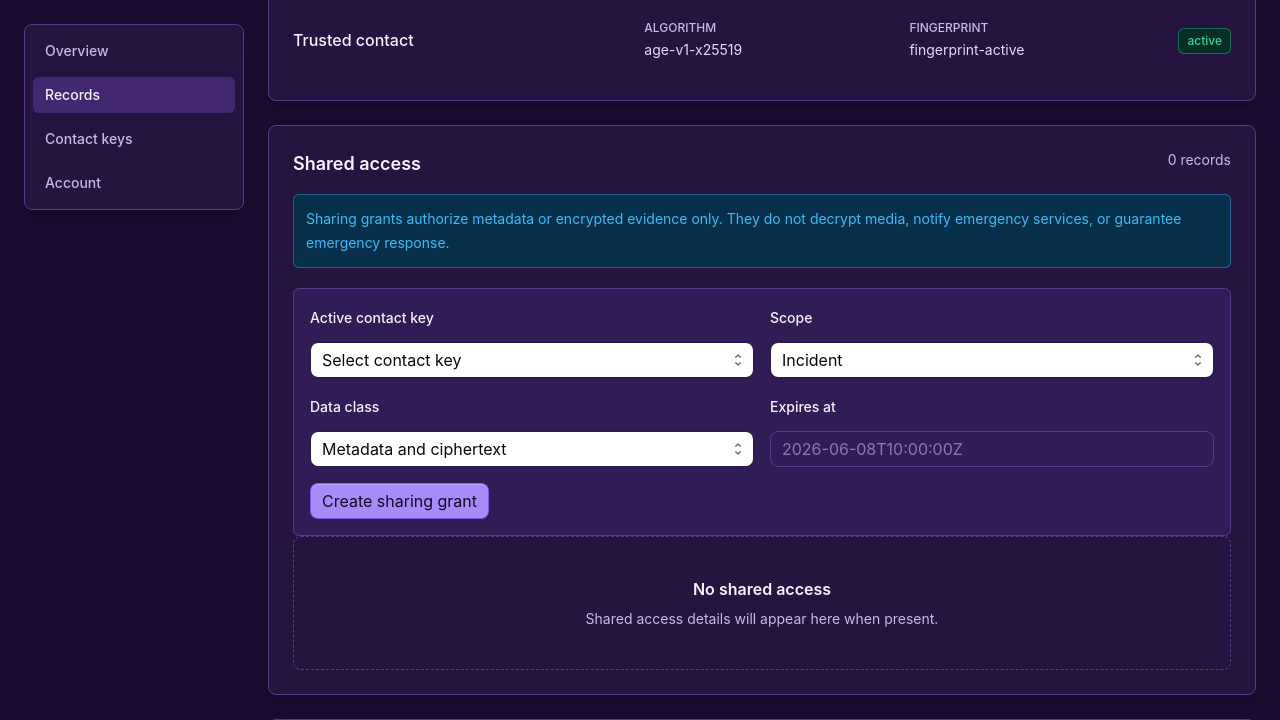
Test case: validates sharing-grant expiry before submission
(page scrolled)
Select "Trusted contact (fingerprint-active)" in the dropdown labelled "Active contact key" at (532, 360), box [310,342,754,378]
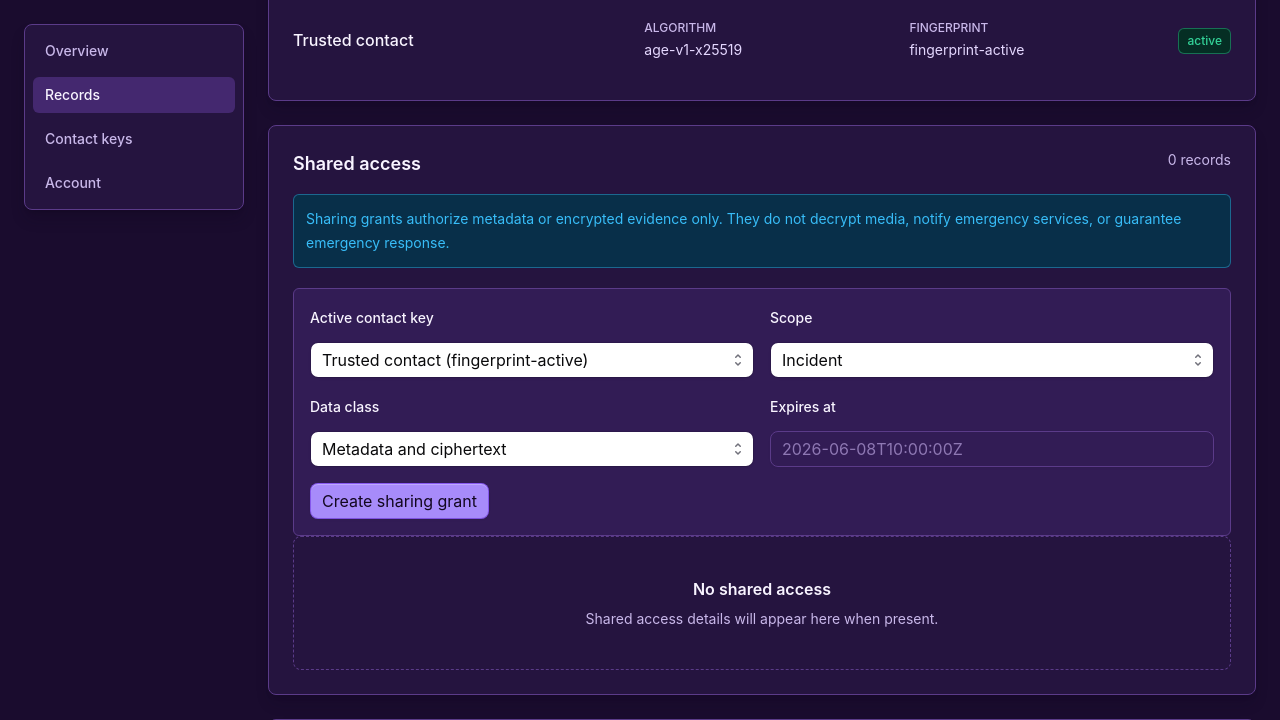
Type "2020-01-01T00:00:00Z" into the field labelled "Expires at" at (992, 449), box [770,431,1214,467]
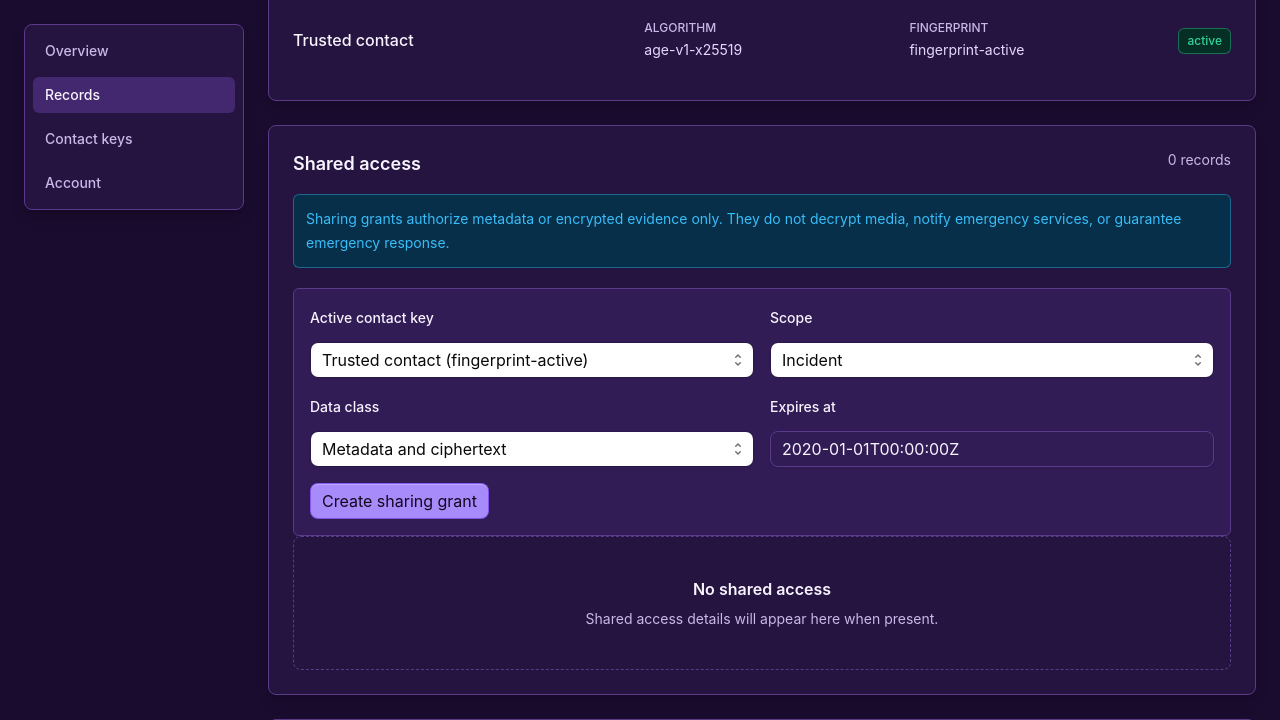
Click the button "Create sharing grant" at (400, 501), box [310,483,489,519]
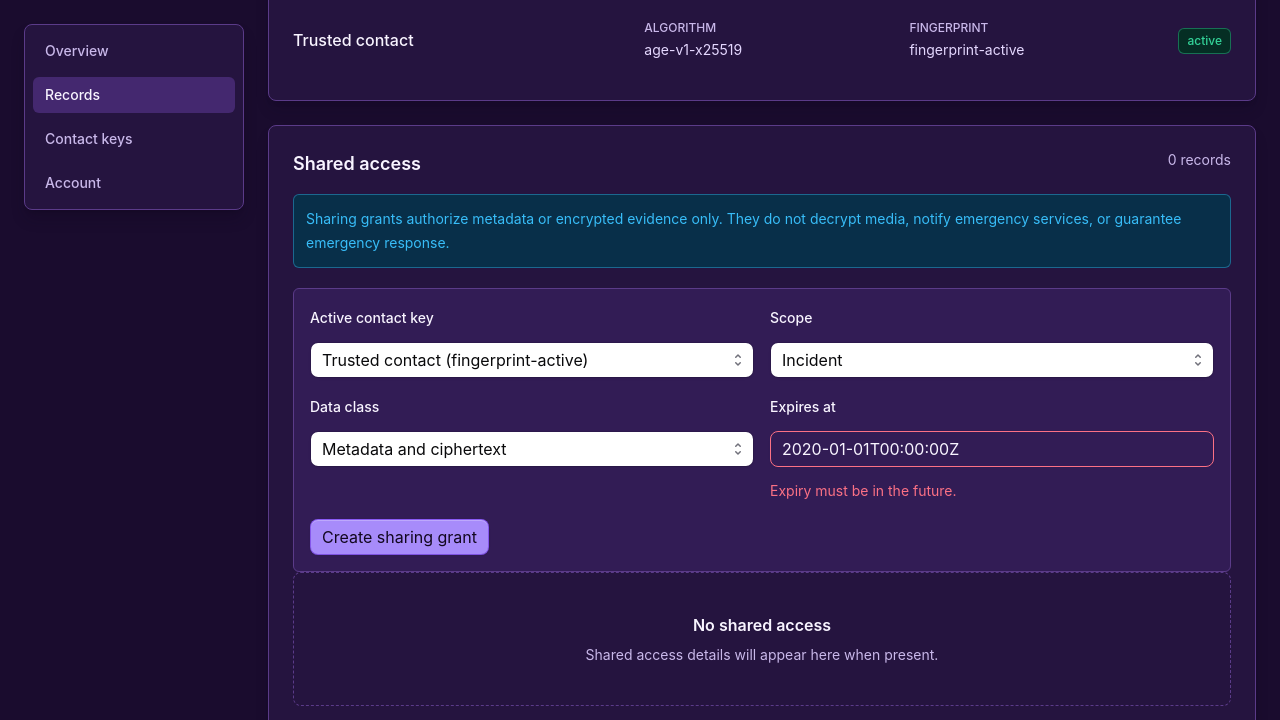
expect the text "Expiry must be in the future." is shown: met, box [770,482,956,499]
